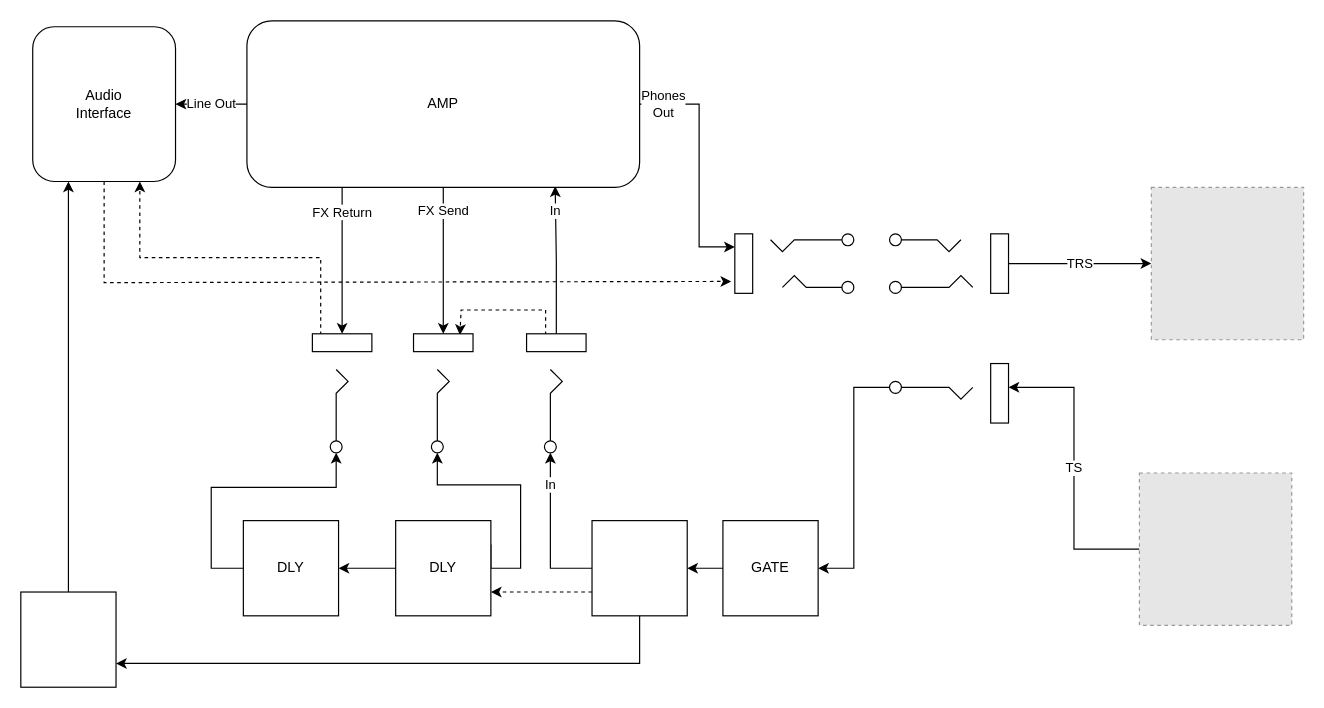
Image size: 1324x708. Some labels were removed from this diagram. Grey dashed boxes stand in for pictures. Here are the shapes that lost their labels. From the top down, the box of each, then its label:
(591, 519, 687, 616): SPLIT
(20, 591, 116, 687): PREAMP
